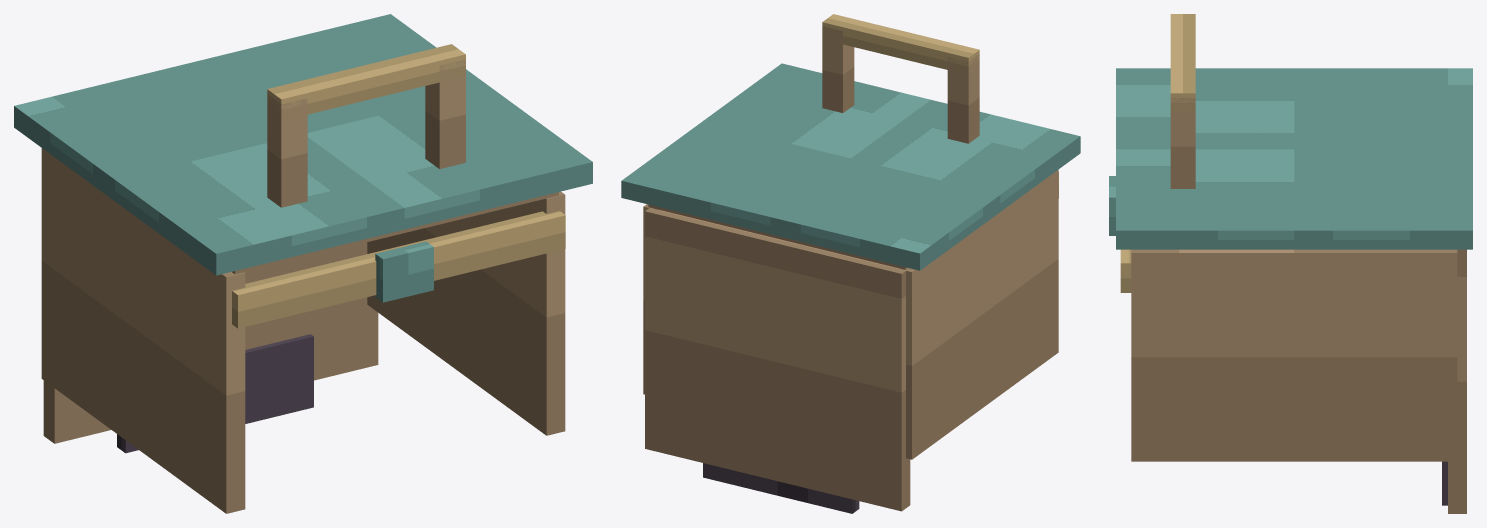
File: qi_tingyu_helmet.obj
The picture shows the model from 3 angles, left to right: view 1: azimuth 30°, elevation 25°; view 2: azimuth 150°, elevation 25°; view 3: azimuth 270°, elevation 25°; orthographic projection. The views are drawn at different scales.
Visible parts, largest first — view 1: crown_brim, cap_side_-1, cap_side_1, cap_brow, cap_back, crown_frame_top, nape_lining, crown_frame_l, crown_frame_r, crown_jade, cap_top; view 2: cap_back, crown_brim, cap_side_-1, crown_frame_top, crown_frame_l, crown_frame_r, nape_lining, cap_top; view 3: cap_side_1, crown_brim, cap_back, crown_frame_top, crown_frame_r, cap_brow, crown_jade.
Boxes of the visible parts, box(x1,y1,x2,y2) form: crown_brim: box(14, 14, 592, 275); cap_side_-1: box(41, 148, 245, 513); cap_side_1: box(367, 191, 565, 435); cap_brow: box(232, 211, 565, 328); cap_back: box(43, 242, 378, 443); crown_frame_top: box(267, 44, 465, 120); nape_lining: box(117, 334, 313, 453); crown_frame_l: box(267, 94, 307, 207); crown_frame_r: box(425, 59, 465, 168); crown_jade: box(375, 241, 433, 302); cap_top: box(232, 192, 558, 274); cap_back: box(645, 208, 910, 511); crown_brim: box(621, 63, 1080, 270); cap_side_-1: box(898, 169, 1058, 459); crown_frame_top: box(822, 14, 979, 74); crown_frame_l: box(947, 54, 979, 143); crown_frame_r: box(822, 26, 854, 112); nape_lining: box(703, 463, 859, 513); cap_top: box(648, 204, 907, 269); cap_side_1: box(1131, 249, 1457, 461); crown_brim: box(1116, 68, 1472, 249); cap_back: box(1448, 249, 1466, 513); crown_frame_top: box(1170, 14, 1195, 112); crown_frame_r: box(1170, 98, 1195, 188); cap_brow: box(1120, 249, 1131, 292); crown_jade: box(1109, 176, 1115, 235).
Bounding box in the file's own units: 0.625 × 0.7391 × 0.5922.
